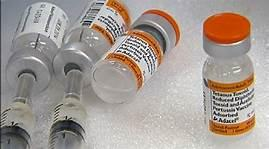Syringe: (87, 6, 182, 108), (197, 4, 260, 138)
